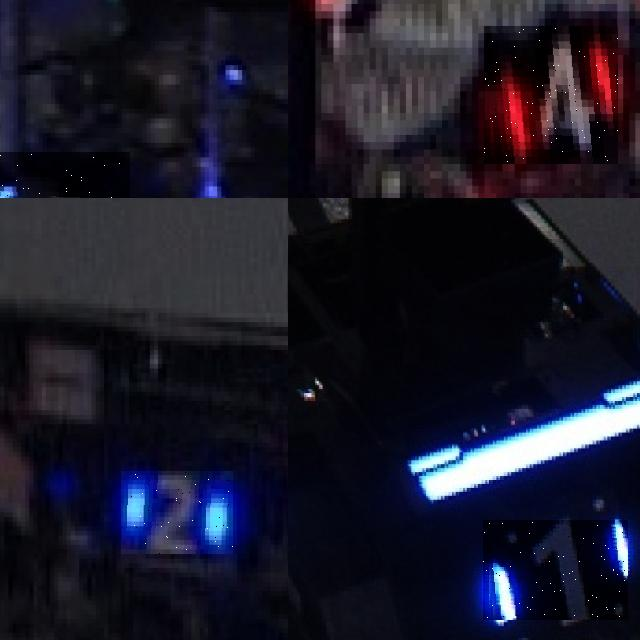B1: (483, 520, 628, 620), (0, 152, 129, 198)
B2: (121, 471, 233, 554)
R4: (484, 26, 618, 164)
